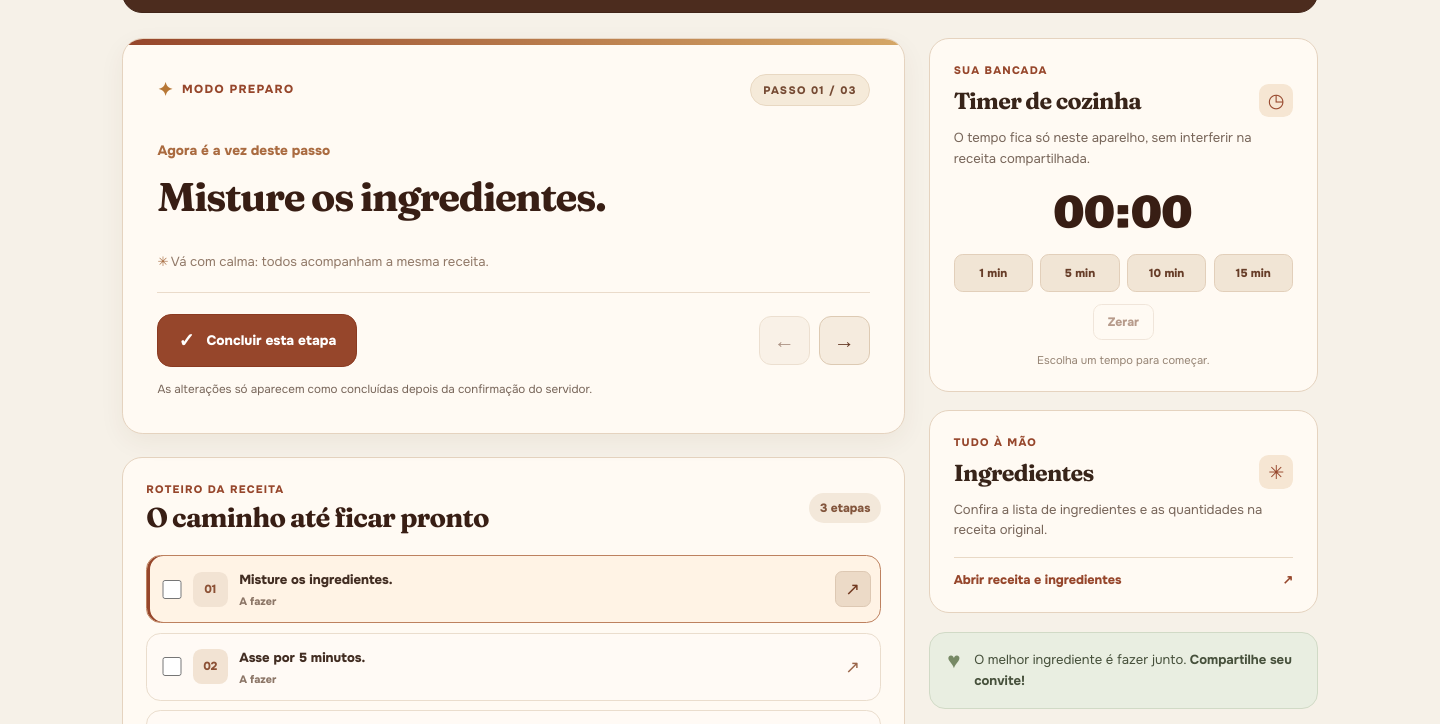
Test: Cozinhar junto — experiência guiada › mantém 3 checkboxes controlados e progresso confirmado pelo backend
(page scrolled)
Step 1. Click the button "✓ Concluir esta etapa" → (257, 340), box [157,314,357,367]
(page scrolled)
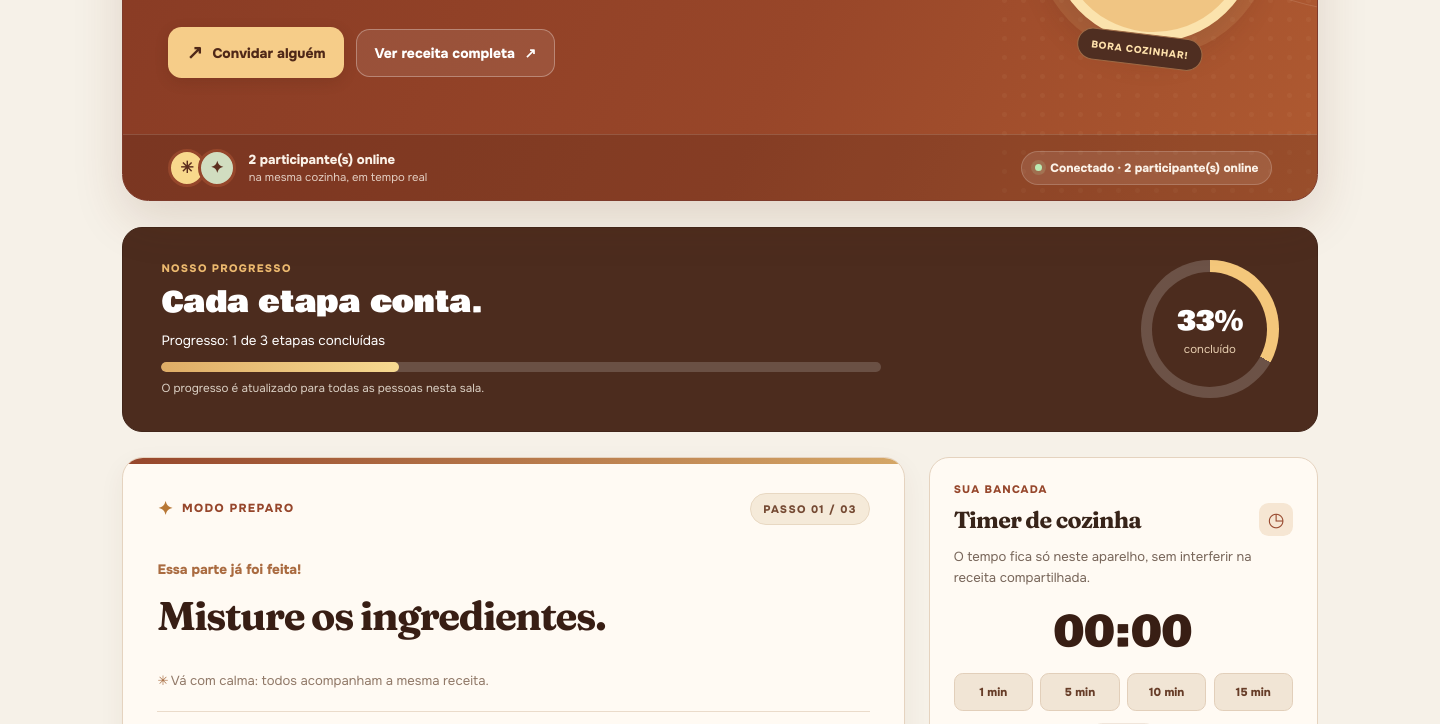
Expected: the text "Progresso: 1 de 3 etapas concluídas" is shown, [161,332,385,348]
